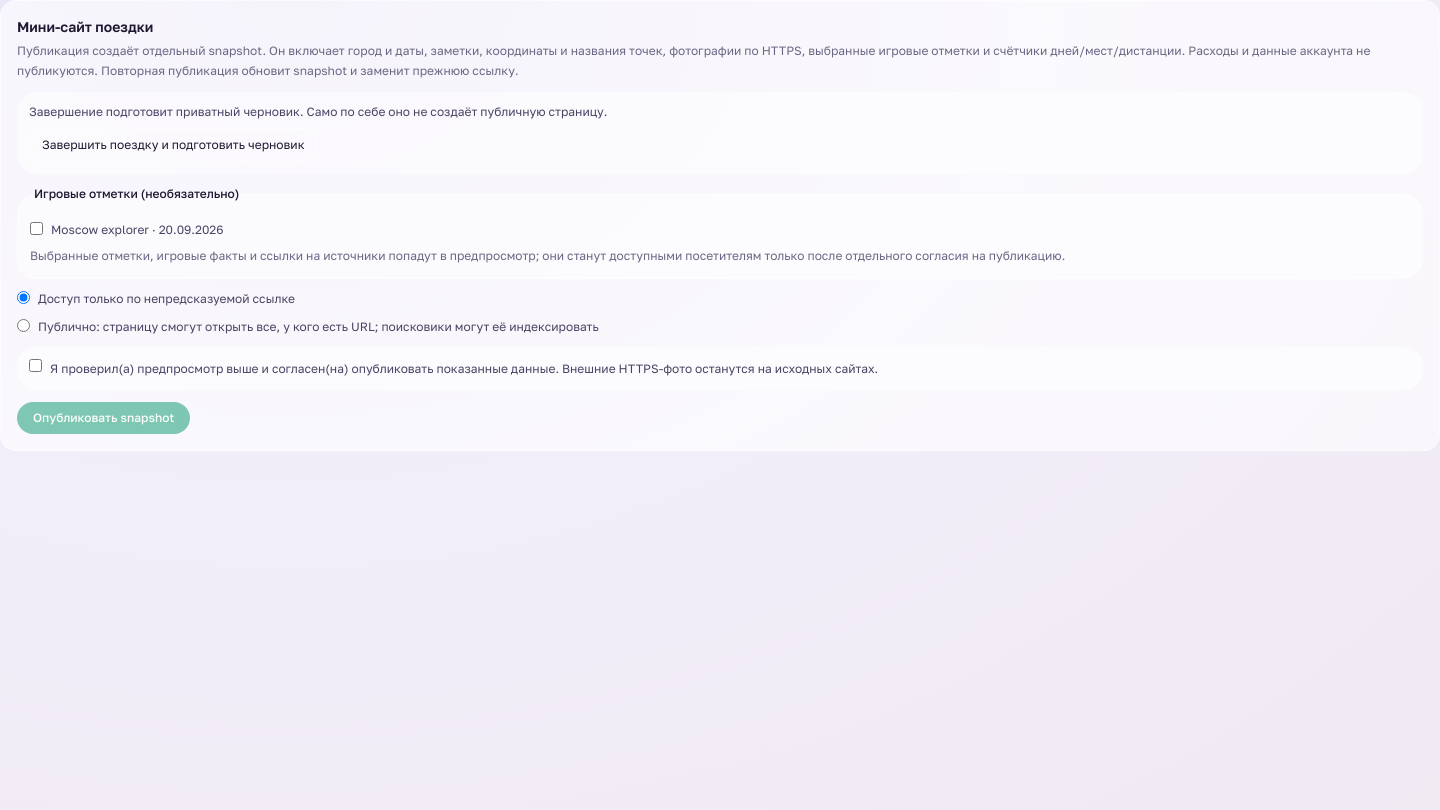
Test: TripMiniSiteControls › requires the selected game-stamp preview to be refreshed before consent
Click the checkbox labelled "Moscow explorer · 20.09.2026" at x=36, y=228, box left=30, top=222, right=43, bottom=235
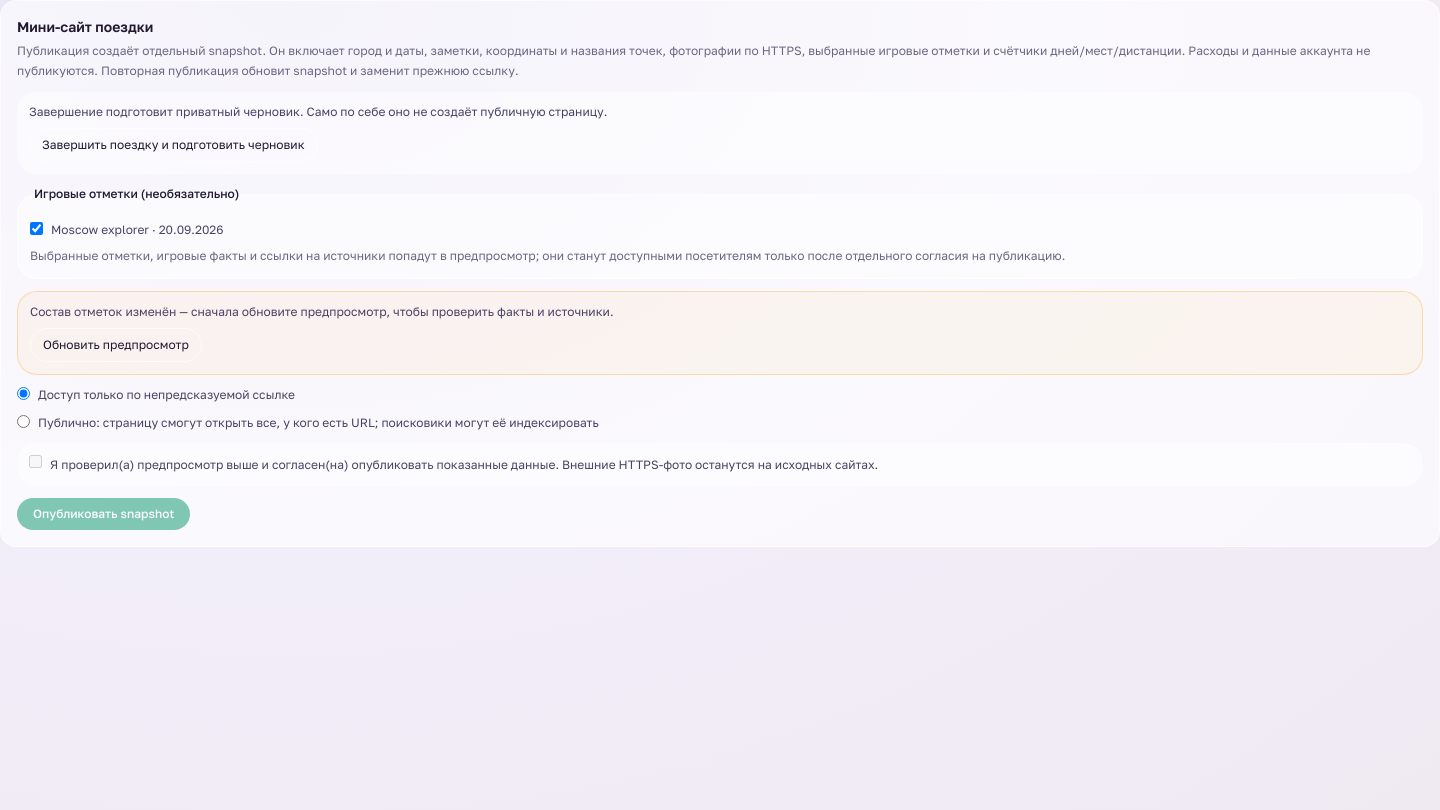
Expected: the button "Опубликовать snapshot" is disabled, left=17, top=498, right=190, bottom=530
Click the button "Обновить предпросмотр" at x=116, y=344, box left=30, top=328, right=202, bottom=362
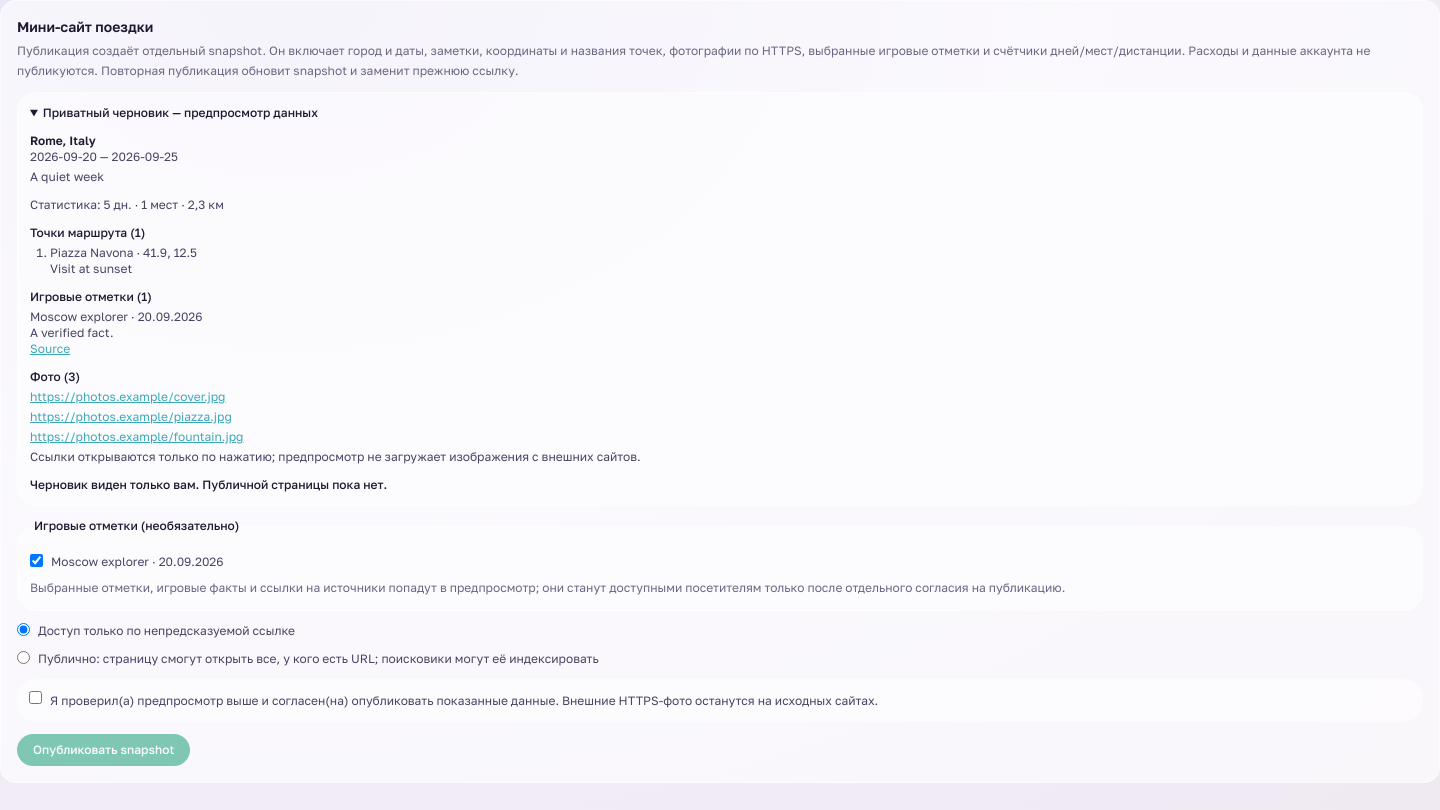
Now the text "A verified fact." is shown, box left=30, top=325, right=114, bottom=340
